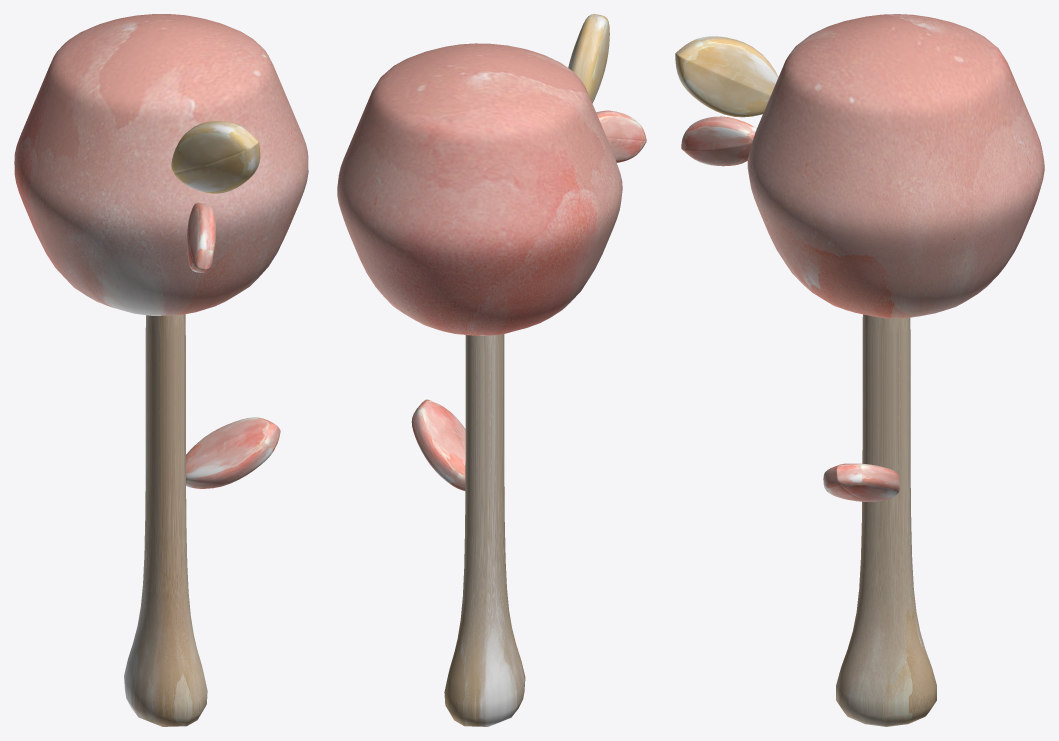
Rendered from tree_redone.fbx.
The picture shows the model from 3 angles, left to right: view 1: azimuth 30°, elevation 25°; view 2: azimuth 150°, elevation 25°; view 3: azimuth 270°, elevation 25°; orthographic projection. The views are drawn at different scales.
Visible parts, largest first — view 1: Sphere266, Box306, Box307, Box309, Box308; view 2: Sphere266, Box306, Box309, Box307, Box308; view 3: Sphere266, Box306, Box307, Box308, Box309.
Boxes of the visible parts, left/top/right/bottom form: Sphere266: left=14, top=14, right=308, bottom=315; Box306: left=124, top=314, right=207, bottom=726; Box307: left=171, top=121, right=260, bottom=193; Box309: left=186, top=417, right=280, bottom=488; Box308: left=187, top=202, right=215, bottom=272; Sphere266: left=337, top=43, right=622, bottom=335; Box306: left=444, top=334, right=525, bottom=726; Box309: left=411, top=399, right=465, bottom=490; Box307: left=568, top=14, right=609, bottom=103; Box308: left=596, top=110, right=646, bottom=162; Sphere266: left=747, top=14, right=1044, bottom=318; Box306: left=836, top=314, right=936, bottom=726; Box307: left=675, top=36, right=778, bottom=117; Box308: left=681, top=116, right=756, bottom=166; Box309: left=823, top=463, right=900, bottom=501.
Bounding box in the file's own units: 2.45 × 6.32 × 3.05.
5 materials, 5 textured.
